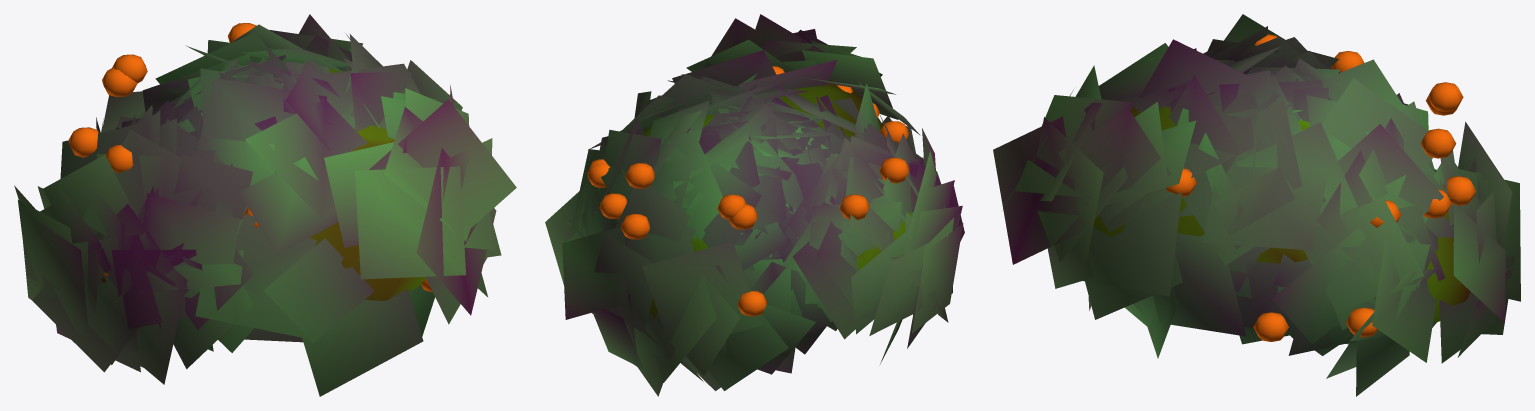
Rendered from bush_rose.glb.
3 renders of one model, left to right at view 1: azimuth 30°, elevation 25°; view 2: azimuth 150°, elevation 25°; view 3: azimuth 270°, elevation 25°, orthographic. The views are drawn at different scales.
Visible parts, largest first — view 1: bush_rose; view 2: bush_rose; view 3: bush_rose.
Part boxes in pixels (<box>): bush_rose: <box>14,14,516,396</box>; bush_rose: <box>545,14,964,396</box>; bush_rose: <box>993,14,1520,396</box>.
Size of the model in its own units: 1.61 by 1.12 by 1.76.
